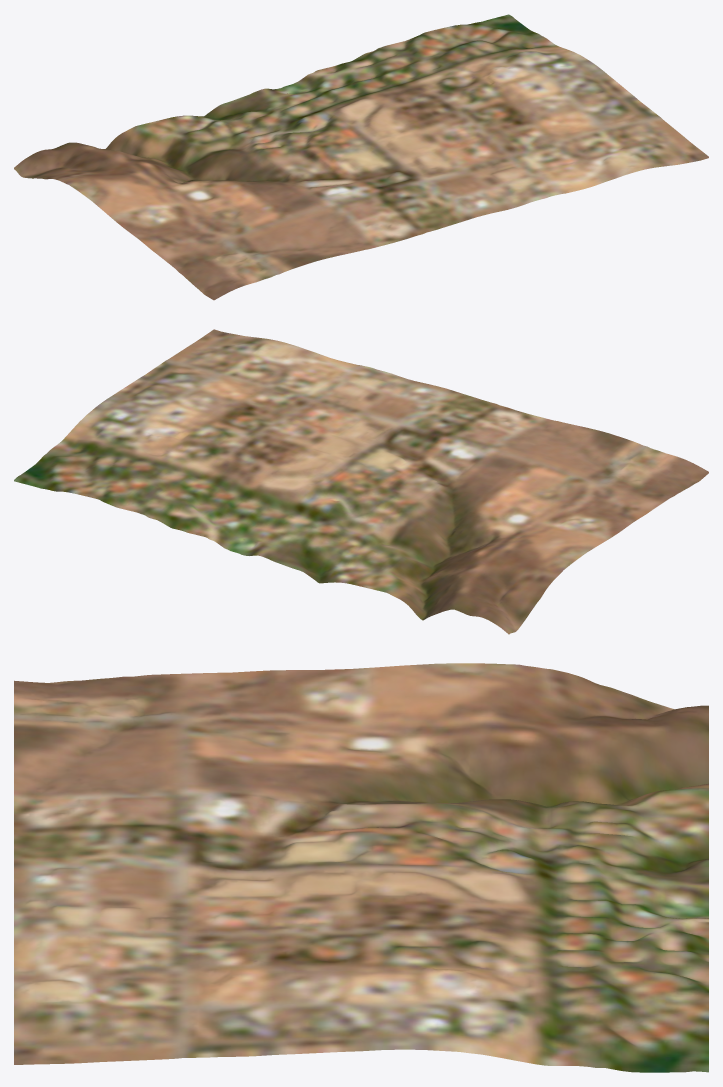
File: terrain_r3_c0.glb
The picture shows the model from 3 angles, top to bottom: view 1: azimuth 30°, elevation 25°; view 2: azimuth 150°, elevation 25°; view 3: azimuth 270°, elevation 25°; orthographic projection. The views are drawn at different scales.
Parts seen in each view (by area): view 1: terrain_r3_c0_lod0; view 2: terrain_r3_c0_lod0; view 3: terrain_r3_c0_lod0.
Part boxes in pixels (x1,y1,x2,y2): terrain_r3_c0_lod0: (14, 14, 708, 300); terrain_r3_c0_lod0: (14, 329, 708, 634); terrain_r3_c0_lod0: (14, 663, 708, 1072).
Size of the model in its own units: 1125 by 118 by 787.
1 material, 1 textured.
